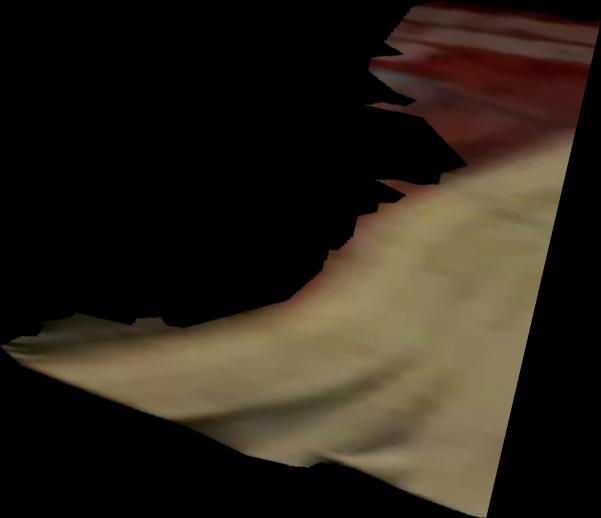backward: (1, 1, 601, 518)
